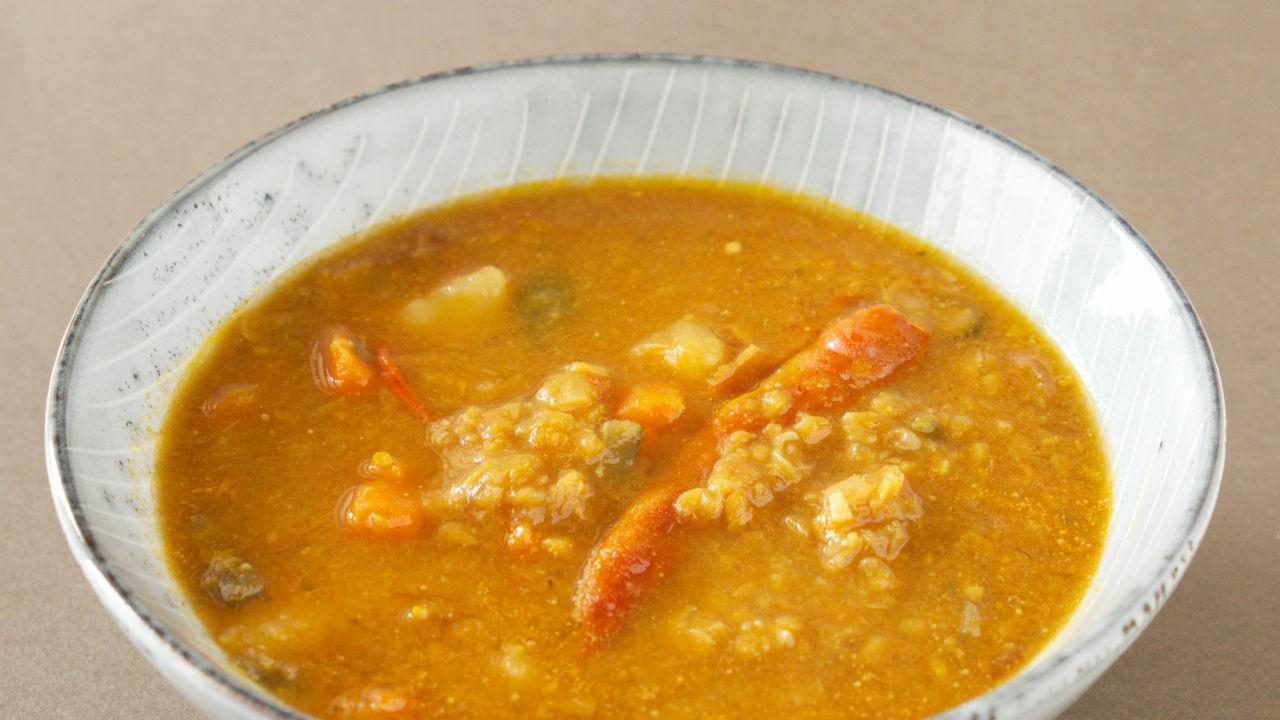Dal: (158, 179, 1108, 720)
